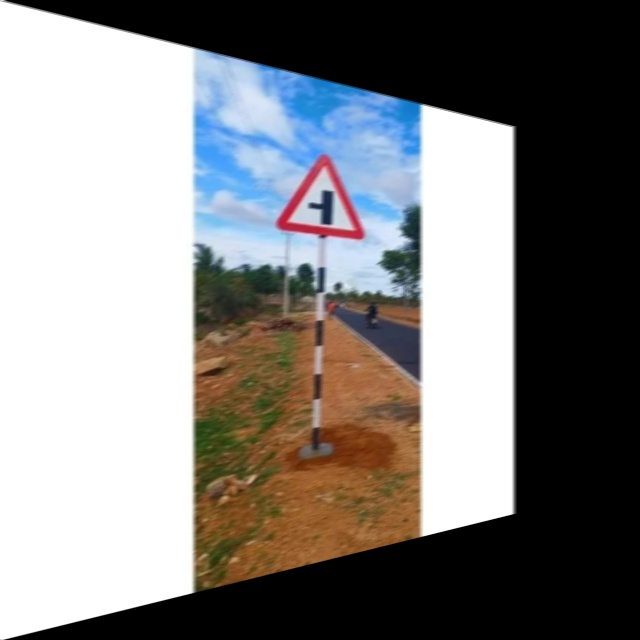Side_Road_Left: (273, 142, 366, 242)
